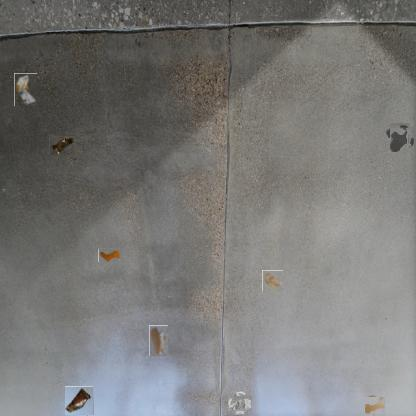dirty: (65, 387, 94, 415), (14, 73, 37, 106), (149, 325, 168, 356), (49, 135, 75, 155), (262, 270, 283, 291), (230, 393, 250, 413), (98, 248, 121, 262)
liquid: (388, 125, 413, 150), (366, 396, 385, 415)
